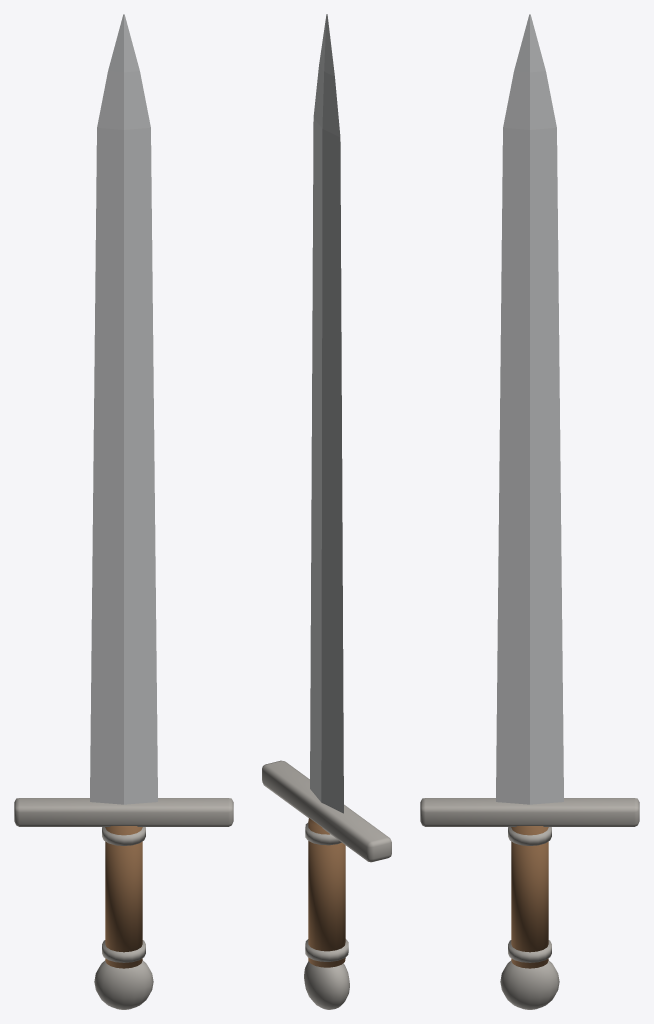
The model's file is sword.glb.
3 views of the same model, side by side, from view 1: azimuth 90°, elevation 25°; view 2: azimuth 210°, elevation 25°; view 3: azimuth 270°, elevation 25° (orthographic).
Visible parts, largest first — view 1: Sword; view 2: Sword; view 3: Sword.
Boxes of the visible parts, <box> form: Sword: <box>14,14,233,1009</box>; Sword: <box>262,14,391,1009</box>; Sword: <box>420,14,639,1009</box>.
Size of the model in its own units: 0.034 by 0.851 by 0.17.
